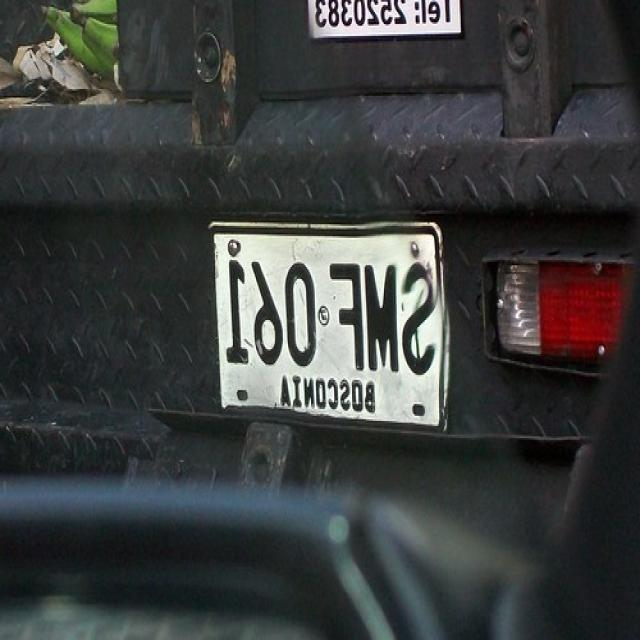placas: (217, 245, 441, 375)
